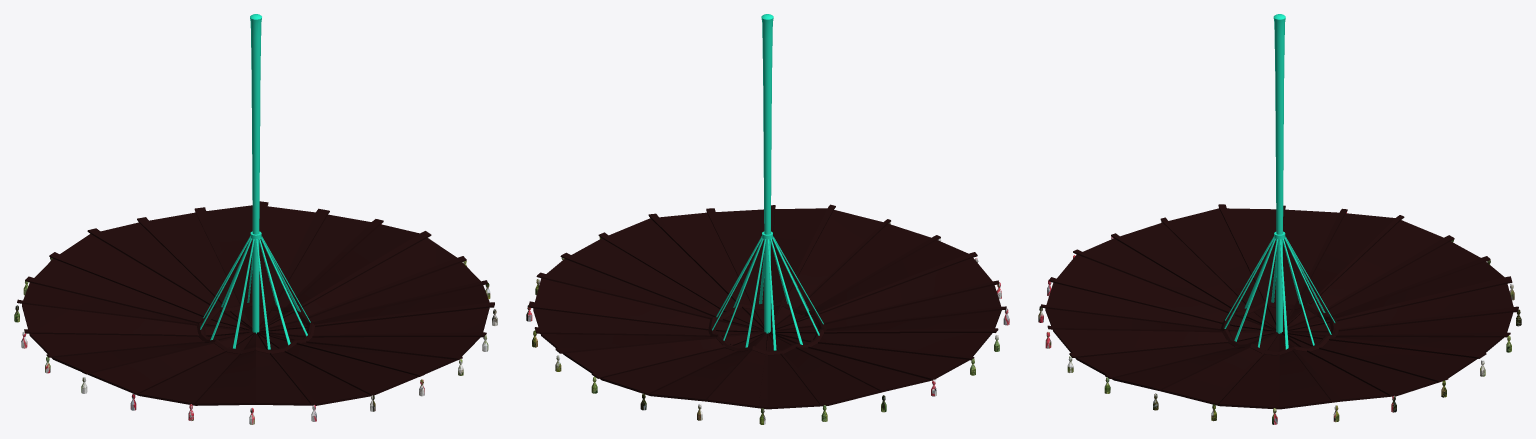
File: umbrella.FBX
3 renders of one model, left to right at view 1: azimuth 30°, elevation 25°; view 2: azimuth 150°, elevation 25°; view 3: azimuth 270°, elevation 25°, orthographic.
Parts seen in each view (by area): view 1: Cone002, Sphere106; view 2: Cone002, Sphere106; view 3: Cone002, Sphere106.
Part boxes in pixels (<box>): Cone002: <box>17,14,494,405</box>; Sphere106: <box>14,224,497,424</box>; Cone002: <box>528,14,1006,409</box>; Sphere106: <box>526,222,1009,424</box>; Cone002: <box>1040,14,1518,409</box>; Sphere106: <box>1038,212,1521,424</box>.
Size of the model in its own units: 117 by 86.42 by 117.
3 materials, 1 textured.
